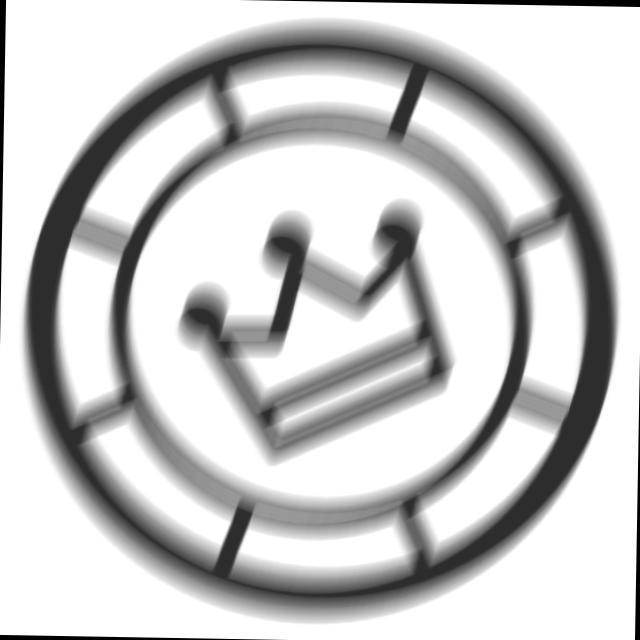coin: (8, 9, 639, 633)
